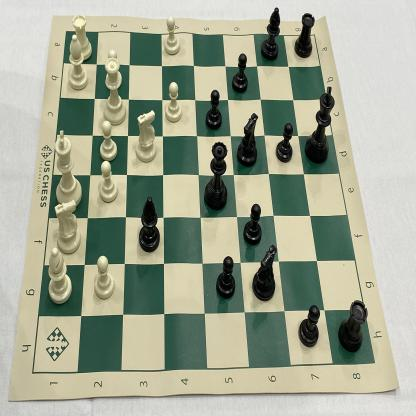black-bishop: (136, 193, 161, 255), (261, 4, 283, 63)
black-king: (303, 84, 336, 166)
black-knight: (252, 241, 280, 305), (236, 109, 259, 169)
black-pawn: (296, 300, 323, 351), (214, 252, 238, 300), (273, 119, 295, 167), (242, 202, 264, 247), (203, 86, 223, 135), (230, 51, 249, 95)
black-queen: (203, 137, 230, 214)
black-rook: (336, 297, 369, 355), (293, 9, 317, 62)
white-bishop: (46, 245, 74, 304), (66, 33, 90, 92)
white-king: (53, 126, 83, 208)
white-knight: (52, 198, 83, 257), (133, 109, 158, 166)
white-pawn: (93, 254, 117, 302), (96, 160, 119, 206), (103, 48, 124, 90), (161, 15, 182, 57), (98, 119, 118, 163), (164, 82, 183, 126)
white-queen: (98, 58, 129, 125)
white-rook: (70, 9, 94, 62)
